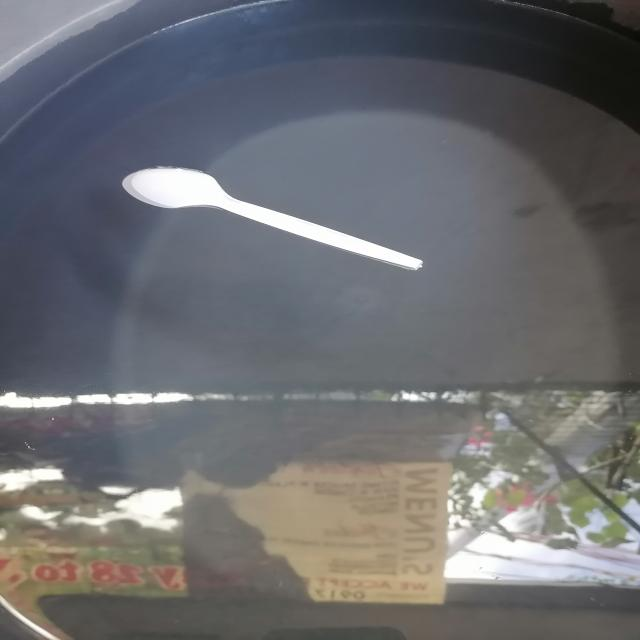Plastic Spoon: (122, 167, 423, 270)
